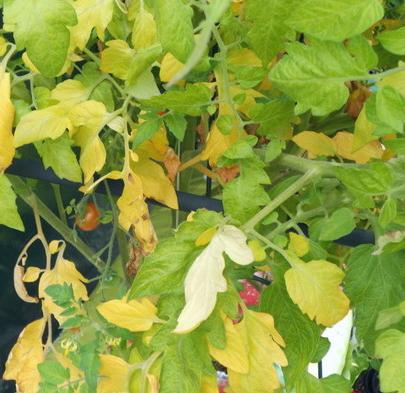Tomato leaf yellow virus: (264, 36, 373, 123), (110, 149, 181, 256), (279, 255, 355, 334), (13, 8, 83, 89), (95, 297, 162, 338)
